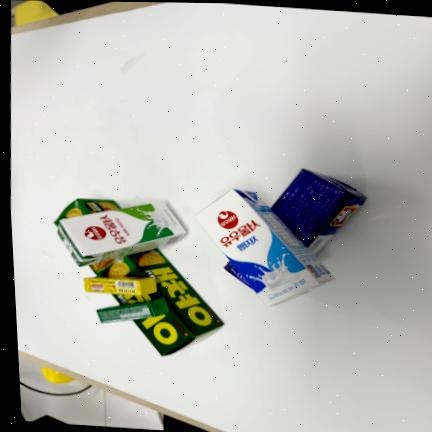cracker_ace: (269, 168, 366, 258)
cracker_vege: (86, 249, 225, 356), (52, 199, 121, 226)
gum_green: (97, 298, 169, 323)
gum_yellow: (84, 277, 157, 297)
milk_blue: (195, 189, 335, 307)
milk_green: (58, 202, 186, 266)
